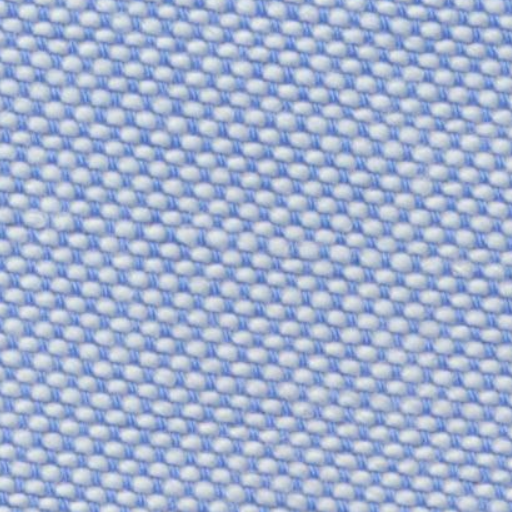TuoSha: (13, 174, 492, 298)
